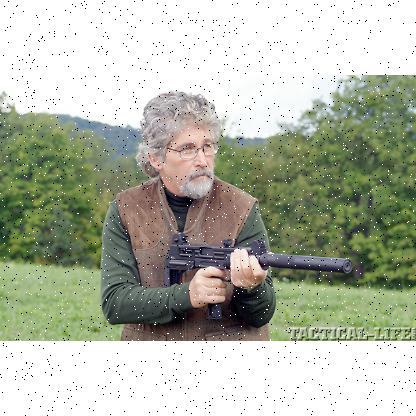gun: (161, 230, 357, 318)
